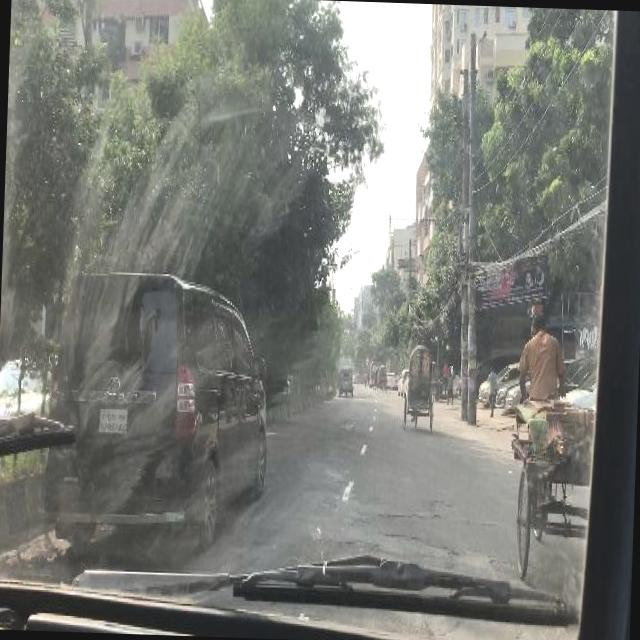bus: (370, 358, 382, 384)
car: (479, 361, 516, 401), (505, 353, 530, 408), (495, 374, 518, 405), (398, 368, 408, 392)
motorcycle: (403, 342, 438, 428), (340, 362, 354, 392), (378, 364, 388, 390)
truck: (41, 272, 272, 552)
